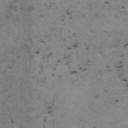oxide scale of temperature system: (34, 10, 90, 77), (106, 42, 128, 103), (104, 0, 126, 10), (9, 4, 34, 12), (43, 106, 52, 122), (6, 64, 12, 69), (94, 94, 100, 99), (10, 118, 14, 124)
